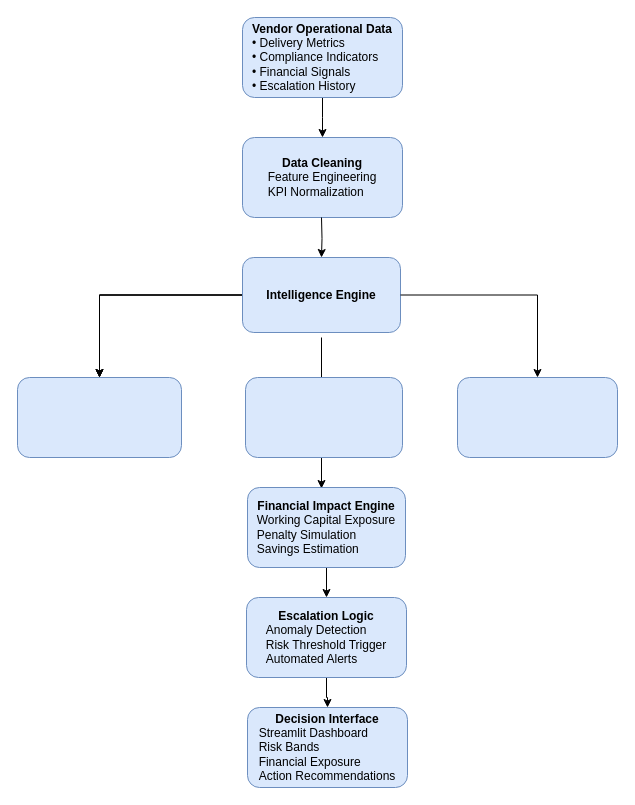
The diagram is 635 pixels wide and 805 high, and some of its shapes have lost their labels. The centre of each missing label's shape, as x and y in pixels:
ML Risk Model (Random Forest): [323,417]
Time-Series Forecast (ARIMA): [537,417]
Vendor Performance Index (VPI): [99,417]
